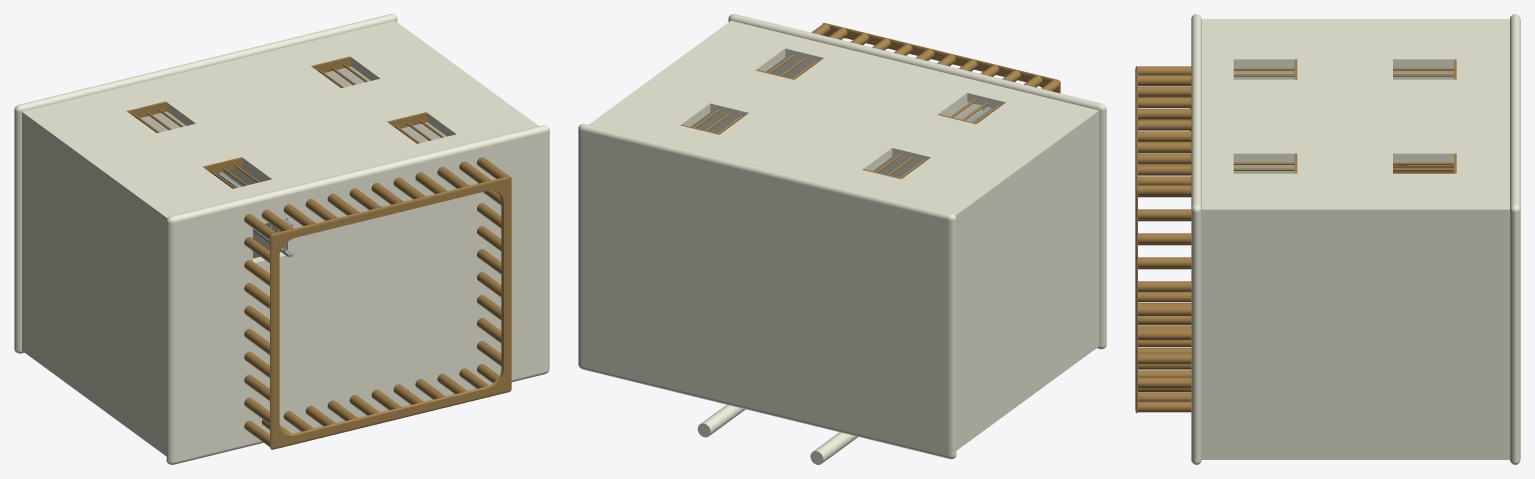
File: house12.glb
3 views of the same model, side by side, from view 1: azimuth 30°, elevation 25°; view 2: azimuth 150°, elevation 25°; view 3: azimuth 270°, elevation 25° (orthographic). The views are drawn at different scales.
Visible parts, largest first — view 1: house, roofParapet, window5, window7, window8, window6; view 2: house, roofParapet; view 3: house, roofParapet, window8, window7, window5, window6, kitchenDoor.
Boxes of the visible parts, box(x1,y1,x2,y2) form: house: box(14, 14, 549, 464); roofParapet: box(244, 157, 511, 449); window5: box(311, 56, 368, 88); window7: box(387, 112, 444, 143); window8: box(202, 157, 259, 188); window6: box(126, 101, 183, 132); house: box(578, 14, 1106, 464); roofParapet: box(811, 23, 1060, 93); house: box(1191, 14, 1520, 464); roofParapet: box(1135, 66, 1191, 413); window8: box(1233, 59, 1297, 79); window7: box(1233, 153, 1297, 173); window5: box(1393, 153, 1456, 173); window6: box(1393, 59, 1456, 79); kitchenDoor: box(1393, 165, 1453, 173).
Size of the model in its own units: 87 by 63.03 by 72.5.
